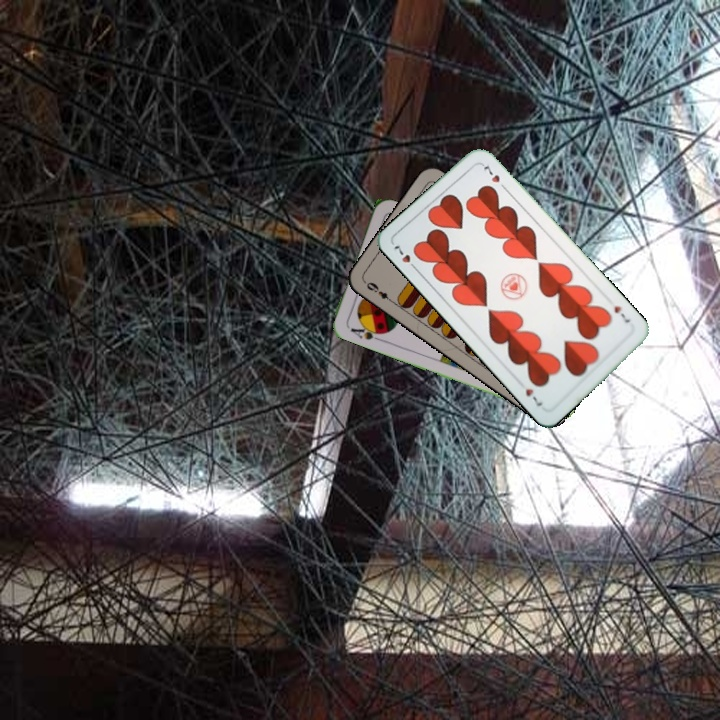E9: (361, 278, 396, 306)
H7: (389, 241, 421, 274), (610, 301, 633, 326)
SA: (347, 320, 385, 343)
